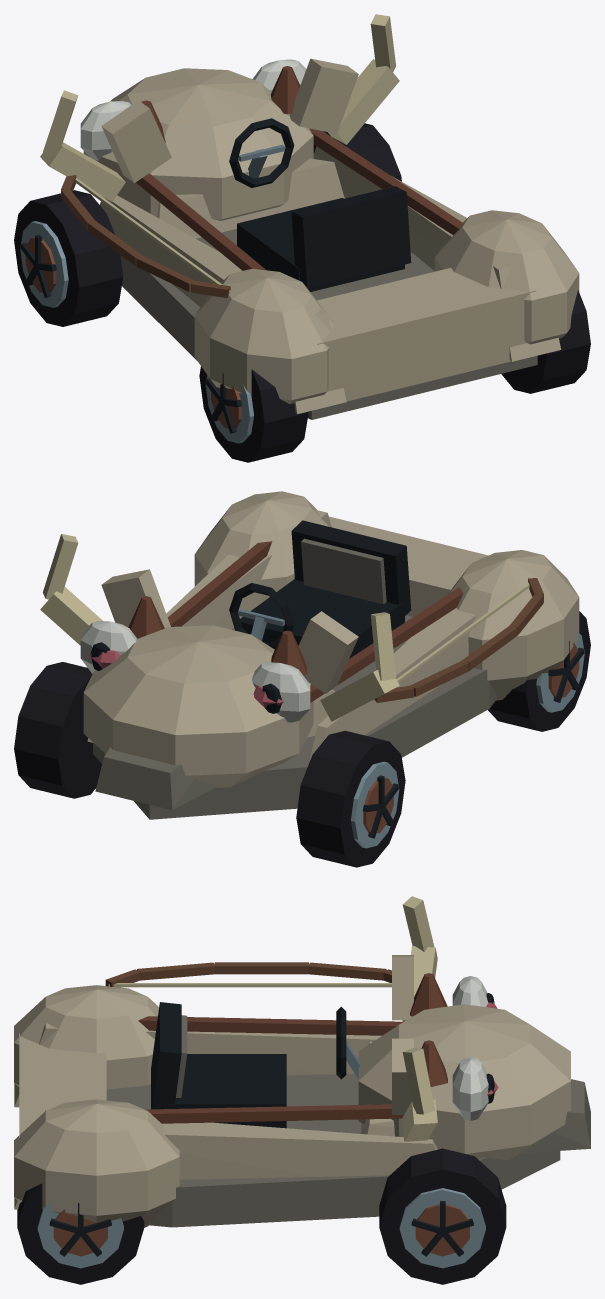
Rendered from kart.glb.
The picture shows the model from 3 angles, top to bottom: view 1: azimuth 30°, elevation 25°; view 2: azimuth 150°, elevation 25°; view 3: azimuth 270°, elevation 25°; orthographic projection. The views are drawn at different scales.
Visible parts, largest first — view 1: identity-beast-beast-sculpted-prow-and-haunches, identity-beast-driver-cockpit, wheel-front-left, identity-beast-motif-horns, wheel-rear-left, identity-beast-motif-bow, wheel-rear-right, identity-beast-motif-eyes, wheel-front-right; view 2: identity-beast-beast-sculpted-prow-and-haunches, identity-beast-driver-cockpit, wheel-front-left, wheel-front-right, identity-beast-motif-horns, wheel-rear-left, identity-beast-motif-eyes, identity-beast-motif-bow; view 3: identity-beast-beast-sculpted-prow-and-haunches, wheel-front-right, identity-beast-driver-cockpit, wheel-rear-right, identity-beast-motif-bow, identity-beast-motif-horns, identity-beast-motif-eyes.
Boxes of the visible parts, left/top/right/bottom form: identity-beast-beast-sculpted-prow-and-haunches: left=83, top=58, right=579, bottom=419; identity-beast-driver-cockpit: left=229, top=118, right=411, bottom=291; wheel-front-left: left=14, top=190, right=123, bottom=326; identity-beast-motif-horns: left=40, top=14, right=399, bottom=201; wheel-rear-left: left=199, top=366, right=308, bottom=462; identity-beast-motif-bow: left=61, top=175, right=230, bottom=297; wheel-rear-right: left=501, top=290, right=590, bottom=393; identity-beast-motif-eyes: left=80, top=59, right=306, bottom=160; wheel-front-right: left=313, top=123, right=401, bottom=181; identity-beast-beast-sculpted-prow-and-haunches: left=83, top=491, right=579, bottom=819; identity-beast-driver-cockpit: left=229, top=520, right=411, bottom=658; wheel-front-left: left=296, top=730, right=405, bottom=867; wheel-front-right: left=14, top=662, right=101, bottom=798; identity-beast-motif-horns: left=40, top=534, right=399, bottom=721; wheel-rear-left: left=488, top=611, right=590, bottom=731; identity-beast-motif-eyes: left=80, top=621, right=310, bottom=722; identity-beast-motif-bow: left=374, top=578, right=543, bottom=702; identity-beast-beast-sculpted-prow-and-haunches: left=14, top=955, right=590, bottom=1227; wheel-front-right: left=379, top=1148, right=506, bottom=1284; identity-beast-driver-cockpit: left=151, top=1002, right=360, bottom=1128; wheel-rear-right: left=17, top=1183, right=144, bottom=1284; identity-beast-motif-bow: left=105, top=962, right=391, bottom=987; identity-beast-motif-horns: left=402, top=896, right=437, bottom=1141; identity-beast-motif-eyes: left=452, top=976, right=494, bottom=1120.
Bounding box in the file's own units: 2.09 × 1.29 × 2.9.
